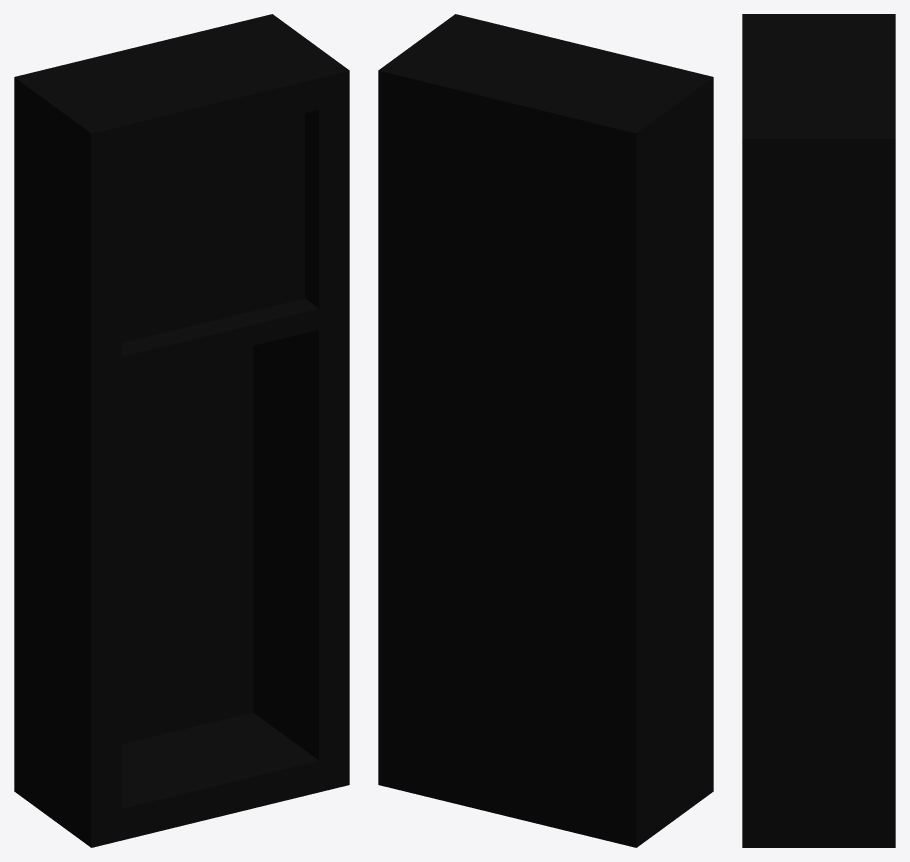
Rendered from Itr_Obj_Grandfatherclock2_Body_05.FBX.
3 views of the same model, side by side, from view 1: azimuth 30°, elevation 25°; view 2: azimuth 150°, elevation 25°; view 3: azimuth 270°, elevation 25° (orthographic).
Visible parts, largest first — view 1: Itr_Obj_Grandfatherclock2_Body_05; view 2: Itr_Obj_Grandfatherclock2_Body_05; view 3: Itr_Obj_Grandfatherclock2_Body_05.
Boxes of the visible parts, x1,y1,x2,y2 form: Itr_Obj_Grandfatherclock2_Body_05: (14,14,349,847); Itr_Obj_Grandfatherclock2_Body_05: (378,14,713,847); Itr_Obj_Grandfatherclock2_Body_05: (742,14,895,847).
Size of the model in its own units: 20.58 by 54.37 by 10.67.
